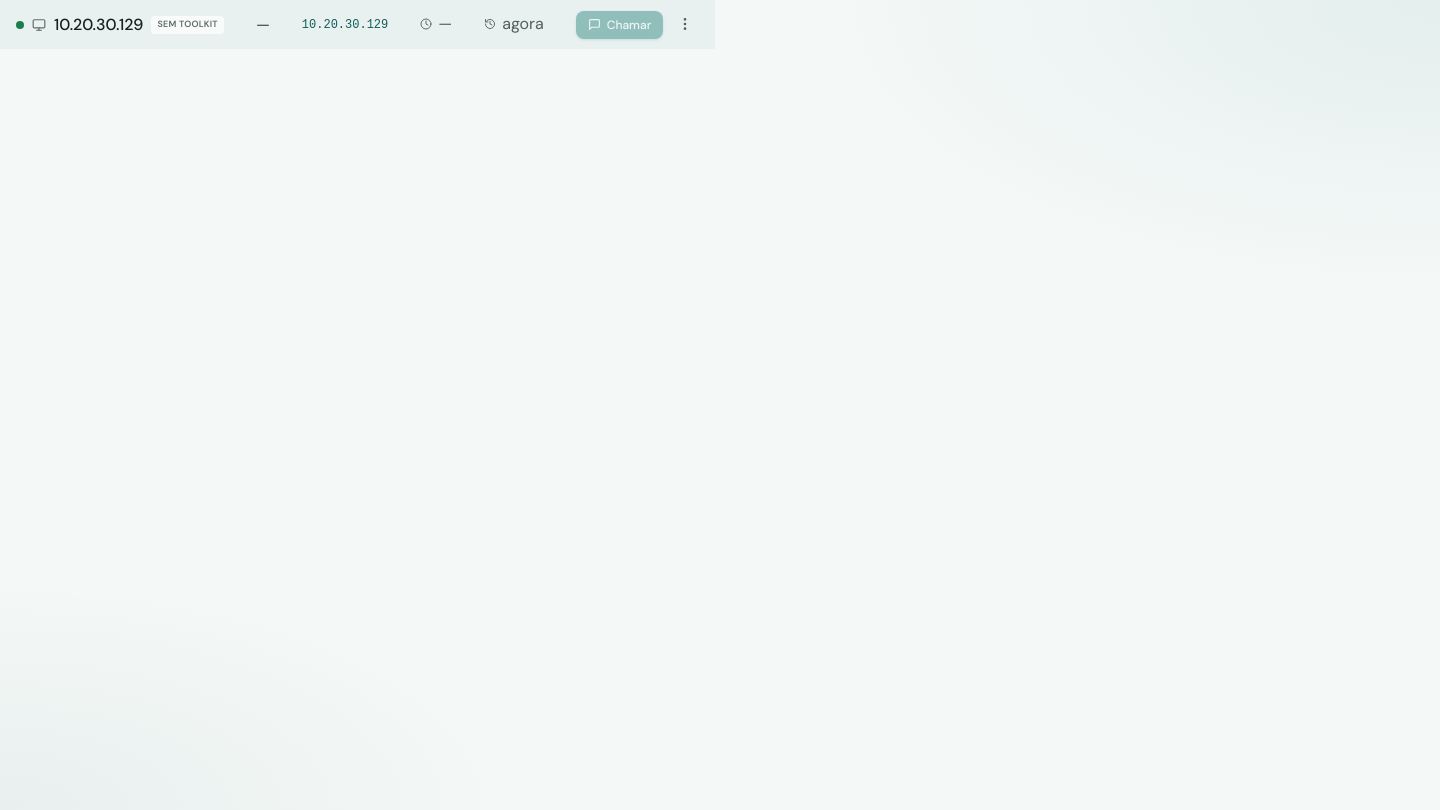
Test case: OnlineUserRow ping › ping que rodou e falhou continua "sem resposta"
Click the button named "Ações para 10.20.30.129" at (685,24), box [671,10,699,38]
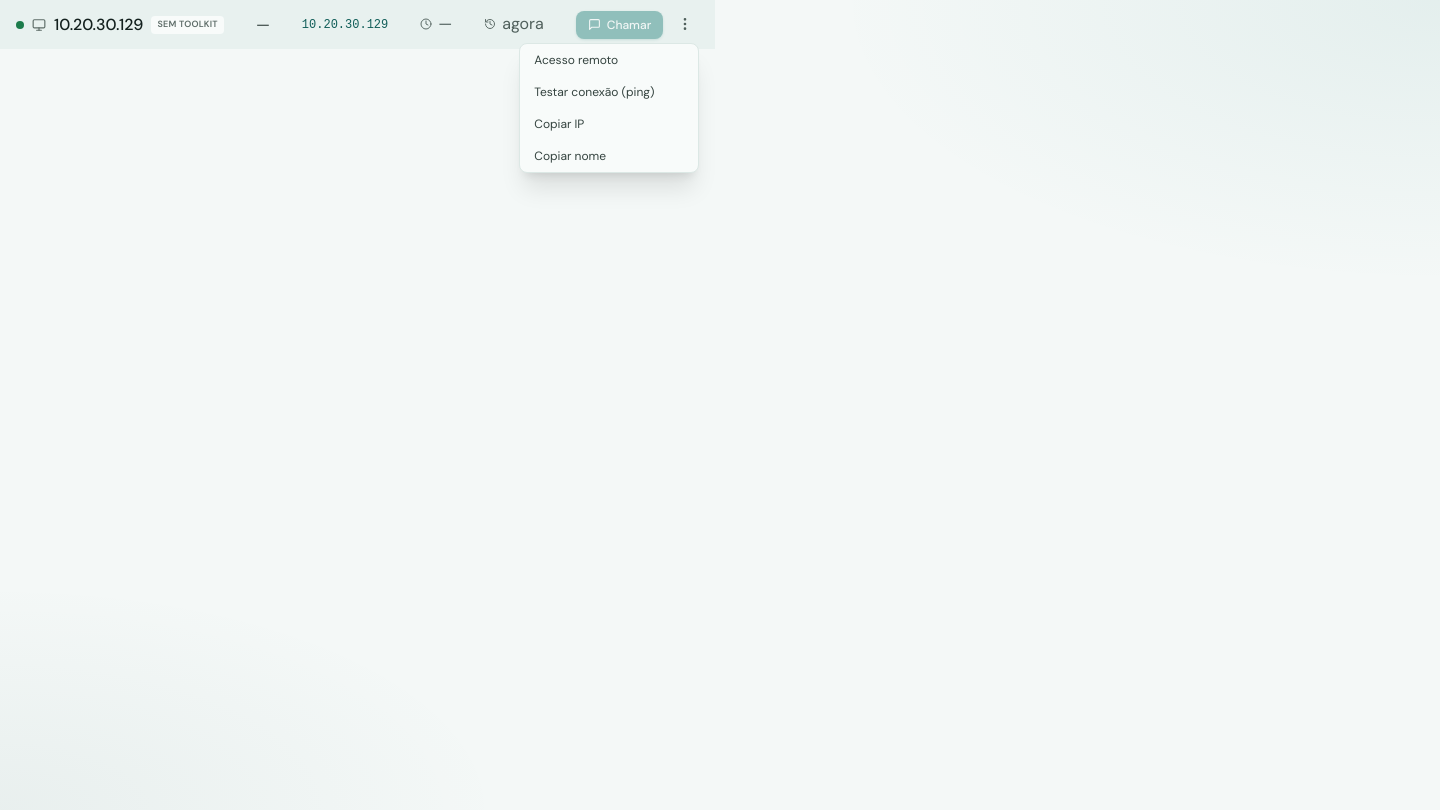
Click the menu item "Testar conexão (ping)" at (609,92), box [520,76,698,108]
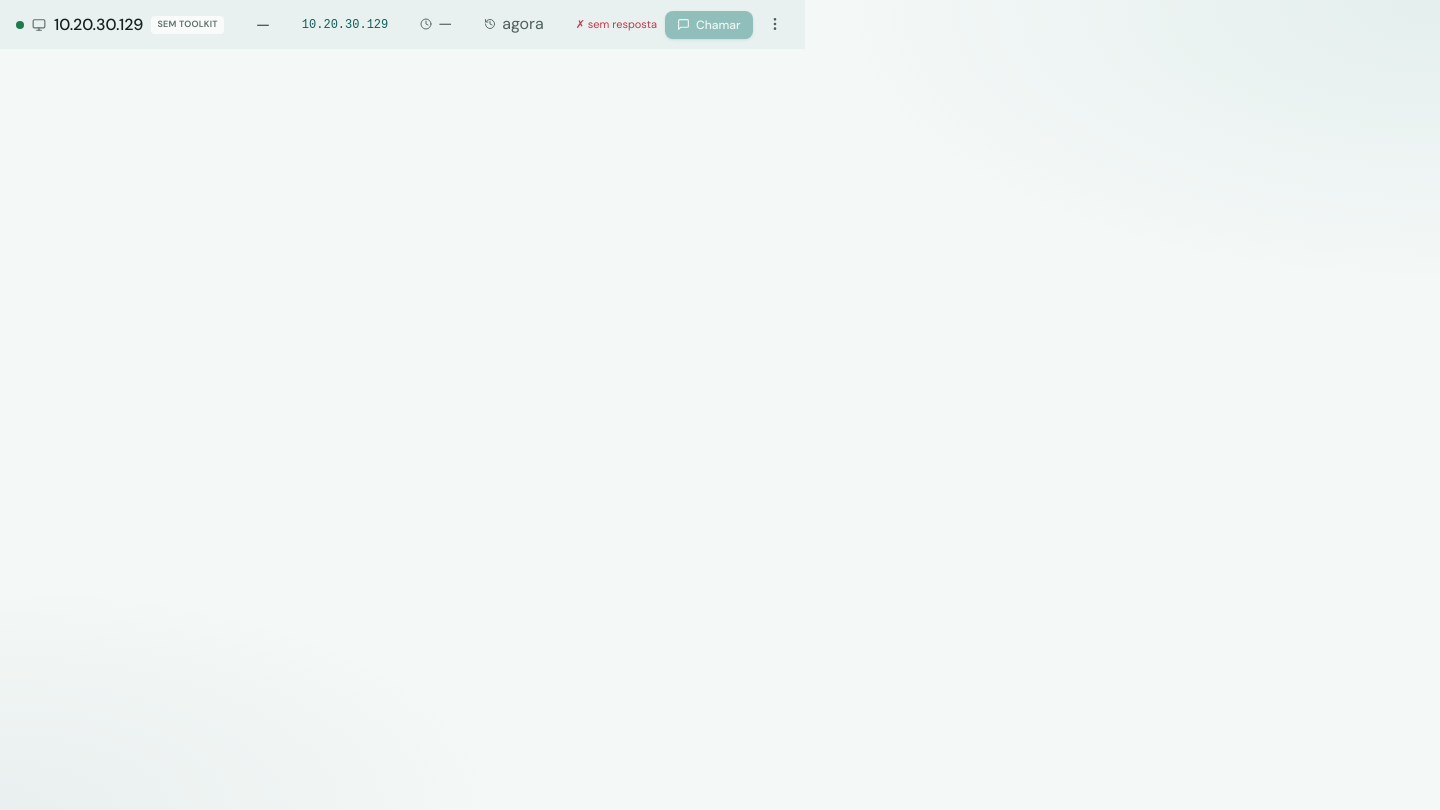
Result: the text "✗ sem resposta" is shown at [576,16,657,33]
